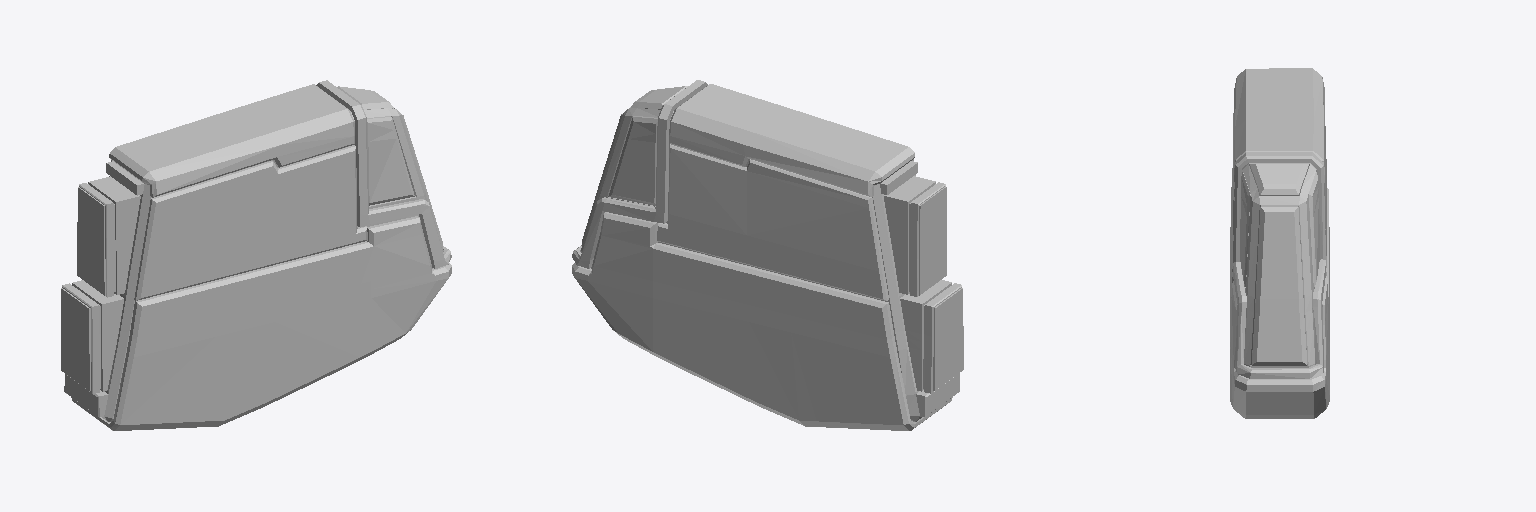
Rendered from MiddlePiece.obj.
The picture shows the model from 3 angles: view 1: azimuth 30°, elevation 25°; view 2: azimuth 150°, elevation 25°; view 3: azimuth 270°, elevation 25°; orthographic projection.
Parts seen in each view (by area): view 1: polySurface116; view 2: polySurface116; view 3: polySurface116.
Part boxes in pixels (x1,y1,x2,y2): polySurface116: (61, 80, 451, 430); polySurface116: (572, 80, 963, 430); polySurface116: (1230, 68, 1329, 418).
Bounding box in the file's own units: 4.09 × 3.08 × 0.9835.